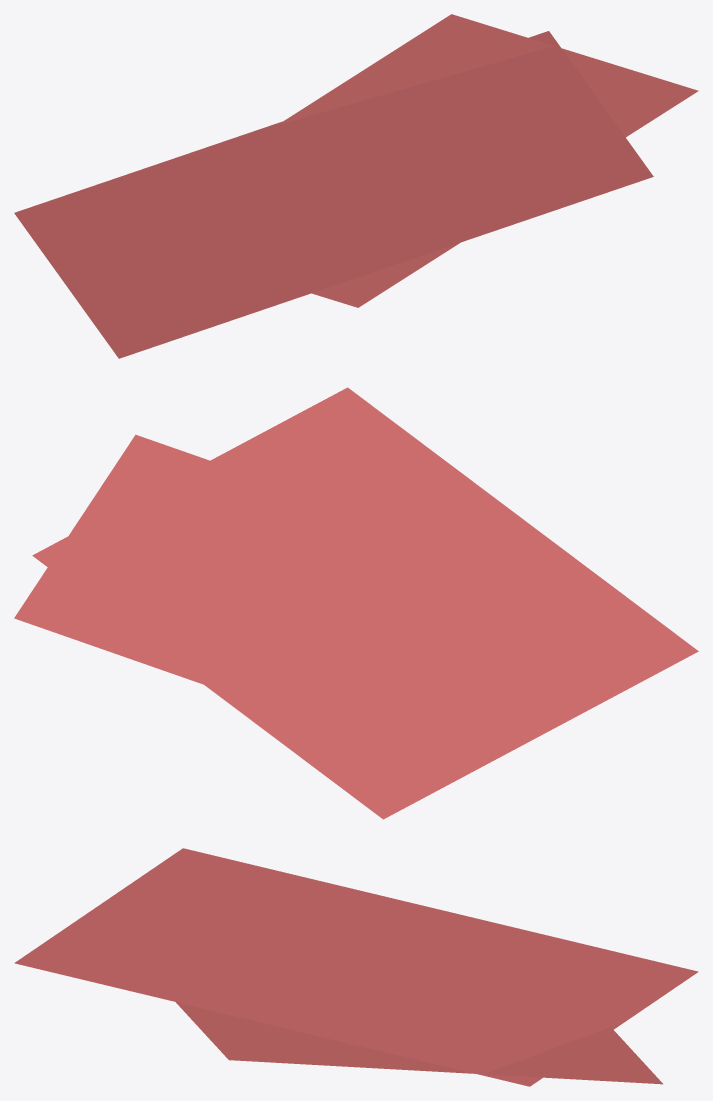
The model's file is Grass Blade 4 VINES.fbx.
3 views of the same model, one above another, from view 1: azimuth 30°, elevation 25°; view 2: azimuth 150°, elevation 25°; view 3: azimuth 270°, elevation 25° (orthographic). The views are drawn at different scales.
Visible parts, largest first — view 1: Quad (2), Quad (3); view 2: Quad (2), Quad (3); view 3: Quad (2), Quad (3).
Part boxes in pixels (x1,y1,x2,y2): Quad (2): (14,31,653,358); Quad (3): (278,14,698,307); Quad (2): (32,387,698,819); Quad (3): (14,434,213,687); Quad (2): (14,848,698,1086); Quad (3): (176,1002,662,1084).
Bounding box in the file's own units: 7.25 × 2 × 6.28.
